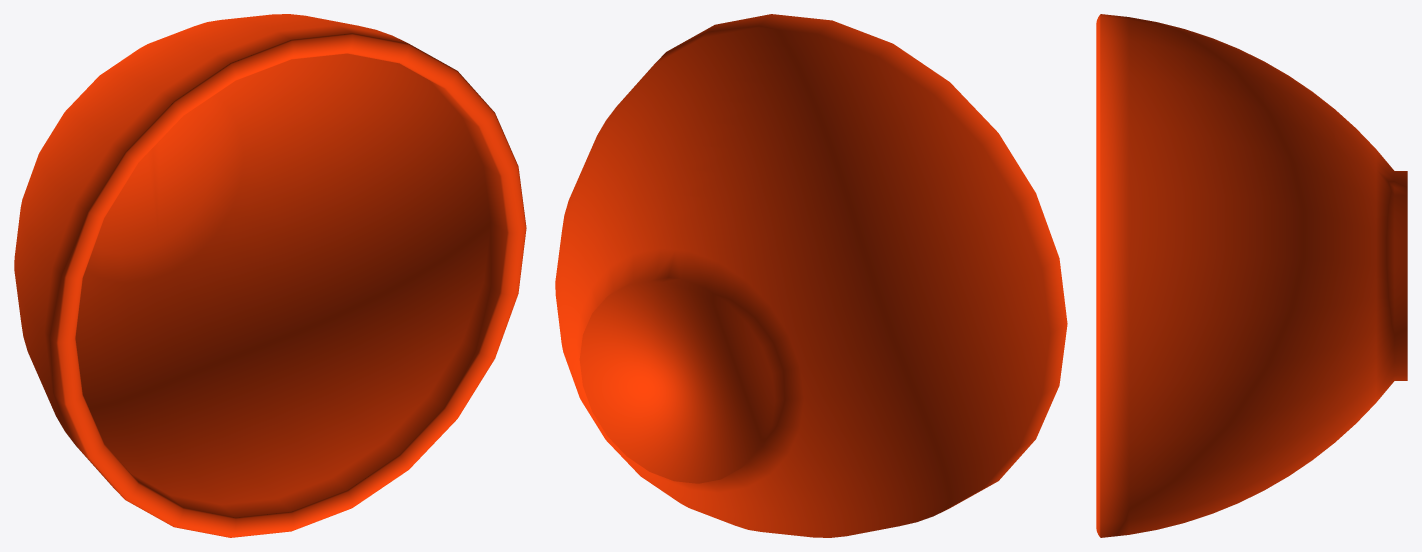
File: model_scale.obj
3 renders of one model, left to right at view 1: azimuth 30°, elevation 25°; view 2: azimuth 150°, elevation 25°; view 3: azimuth 270°, elevation 25°, orthographic. The views are drawn at different scales.
Visible parts, largest first — view 1: mesh1_mesh1-geometry; view 2: mesh1_mesh1-geometry; view 3: mesh1_mesh1-geometry.
Boxes of the visible parts, x1,y1,x2,y2 form: mesh1_mesh1-geometry: (14,14,526,537); mesh1_mesh1-geometry: (555,14,1067,537); mesh1_mesh1-geometry: (1096,14,1407,537).
Size of the model in its own units: 0.1576 by 0.1576 by 0.0933.
